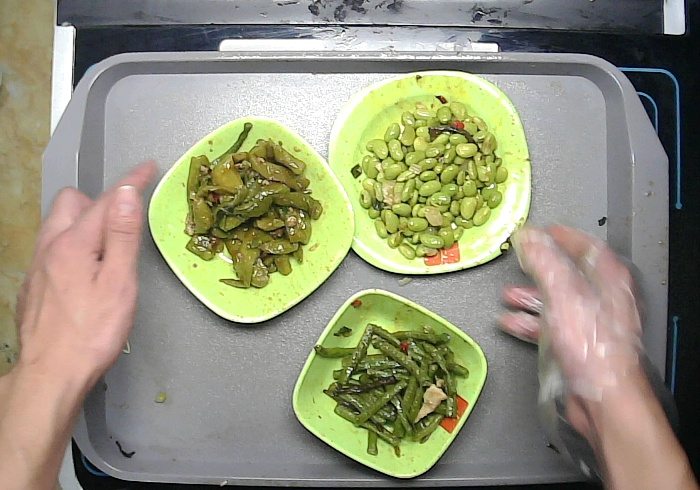SHKJ-Lv_Se_Cai_Die: (146, 114, 357, 327)
SHKJ-Lv_Se_Si_Fang_Cai_Die: (324, 68, 535, 280)
SHKJ-Lv_Se_Xiao_Fang_Die: (291, 286, 489, 481)
